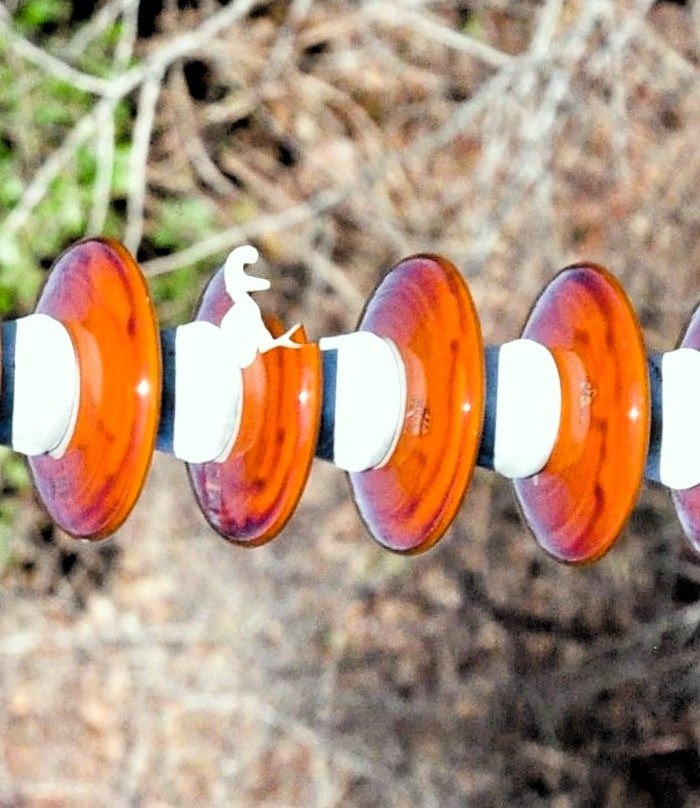insulator breakage: (174, 234, 330, 548)
